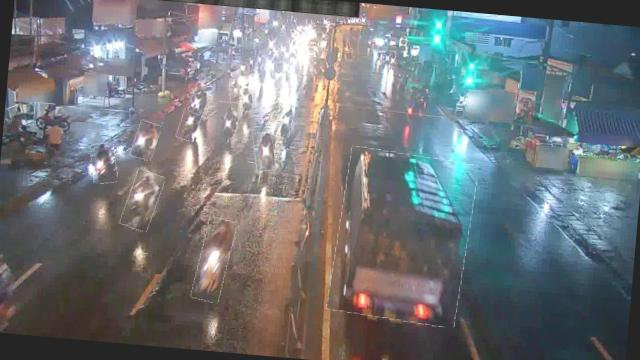Bike: (194, 216, 235, 304), (122, 169, 162, 232), (88, 142, 118, 184), (34, 103, 76, 132), (132, 120, 160, 161), (216, 102, 240, 146), (252, 130, 277, 172), (189, 82, 214, 116), (178, 107, 202, 142), (275, 103, 295, 138), (238, 88, 254, 113), (228, 79, 240, 103)
Truck: (328, 148, 476, 328)
